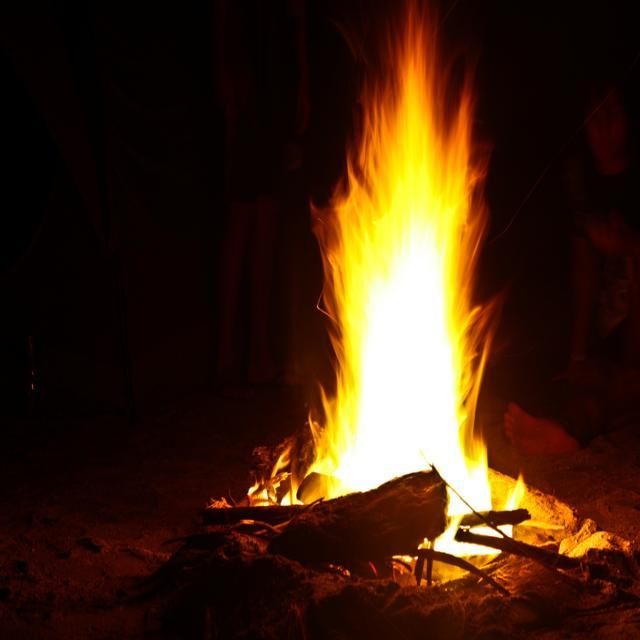Fire: (357, 214, 468, 472)
